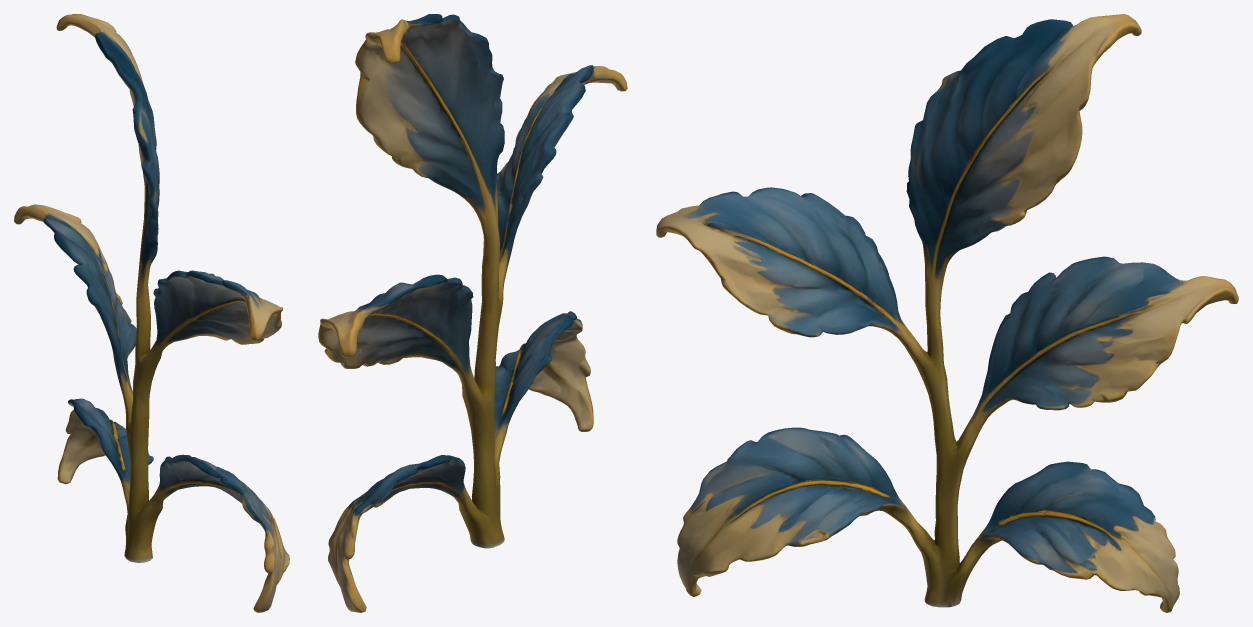
Rendered from decorative+plant+3d+model+1k.glb.
The picture shows the model from 3 angles, left to right: view 1: azimuth 30°, elevation 25°; view 2: azimuth 150°, elevation 25°; view 3: azimuth 270°, elevation 25°; orthographic projection. The views are drawn at different scales.
Parts seen in each view (by area): view 1: tripo_node_66d34885-d68f-41bf-bb31-c525bb9afa82; view 2: tripo_node_66d34885-d68f-41bf-bb31-c525bb9afa82; view 3: tripo_node_66d34885-d68f-41bf-bb31-c525bb9afa82.
Boxes of the visible parts, bbox=[...] form: tripo_node_66d34885-d68f-41bf-bb31-c525bb9afa82: bbox=[14, 14, 289, 612]; tripo_node_66d34885-d68f-41bf-bb31-c525bb9afa82: bbox=[318, 14, 627, 612]; tripo_node_66d34885-d68f-41bf-bb31-c525bb9afa82: bbox=[656, 14, 1238, 612].
Bounding box in the file's own units: 0.1874 × 1 × 0.8923.
Materials: 1 (1 with a texture image).
